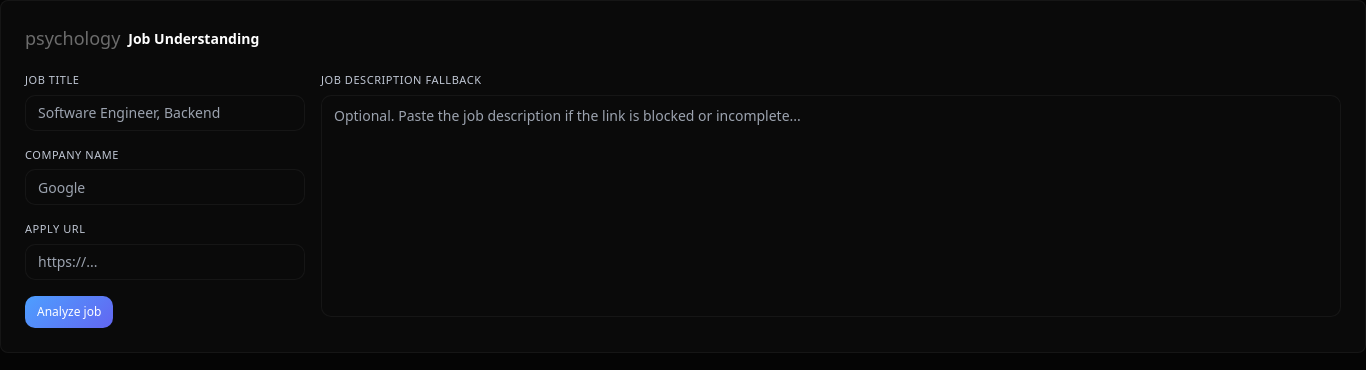
Scenario: JobAnalysisPanel › allows submitting only an apply URL
The width and height of the screenshot is (1366, 370).
In the field labelled "Apply URL": x=165, y=262 [25,244,305,280], type "https://jobs.example.com/nooks/full-stack"
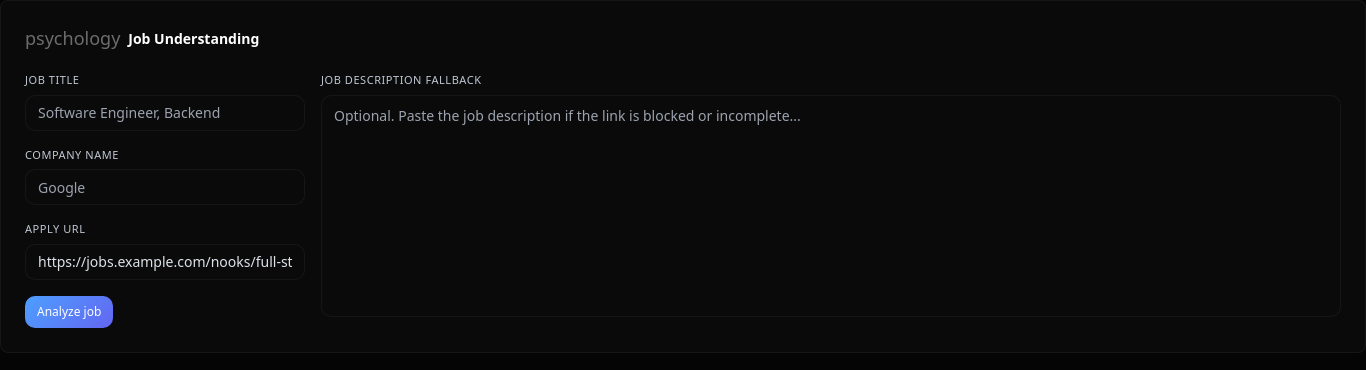
Click the button "Analyze job": x=69, y=312 [25,296,113,328]
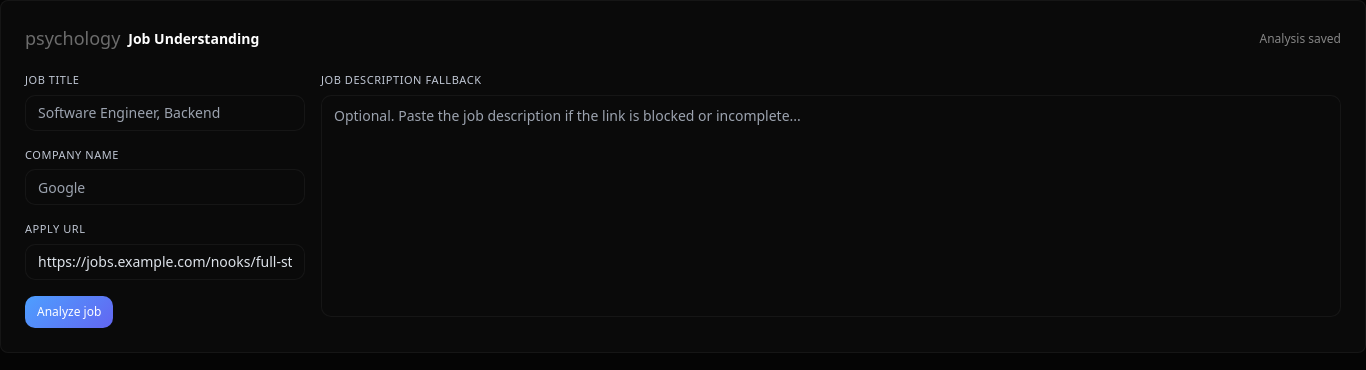
expect the text "Analysis saved" is shown: met, box [1260,30,1341,46]
